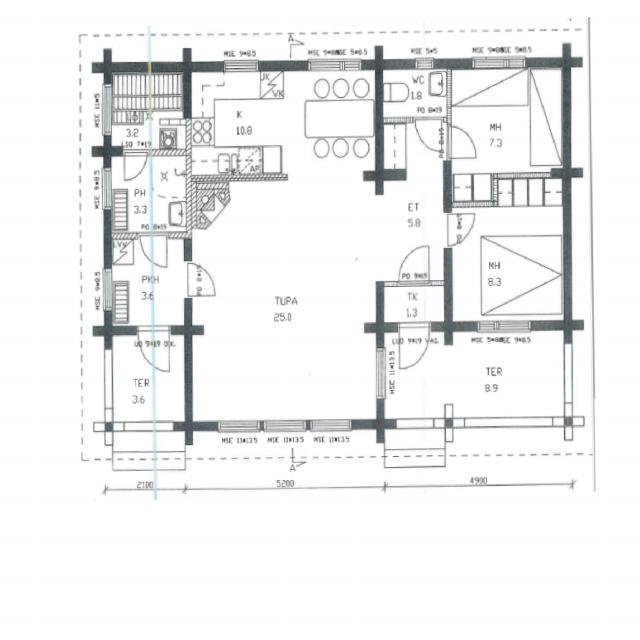door: (138, 326, 169, 372), (400, 326, 430, 371), (399, 244, 430, 286), (184, 264, 219, 296), (444, 214, 478, 246), (140, 232, 167, 270), (447, 126, 479, 158), (416, 117, 441, 153), (124, 149, 147, 182)
